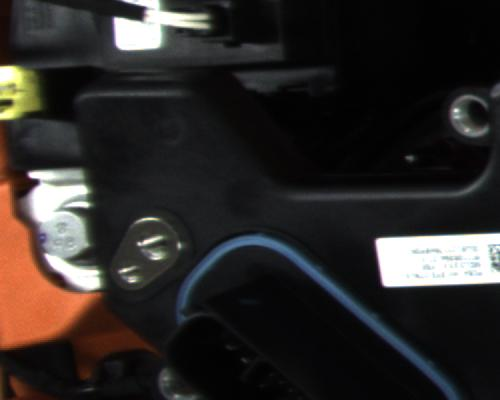nut_b: (30, 192, 94, 271)
